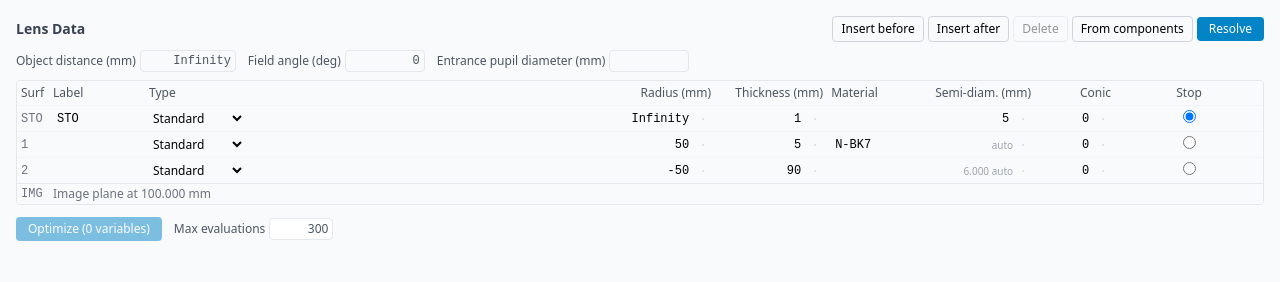
Test: LensDataEditor › resolves through the backend and hands back the system
Click the button "Resolve" at (1230, 29), box [1197,17,1264,41]
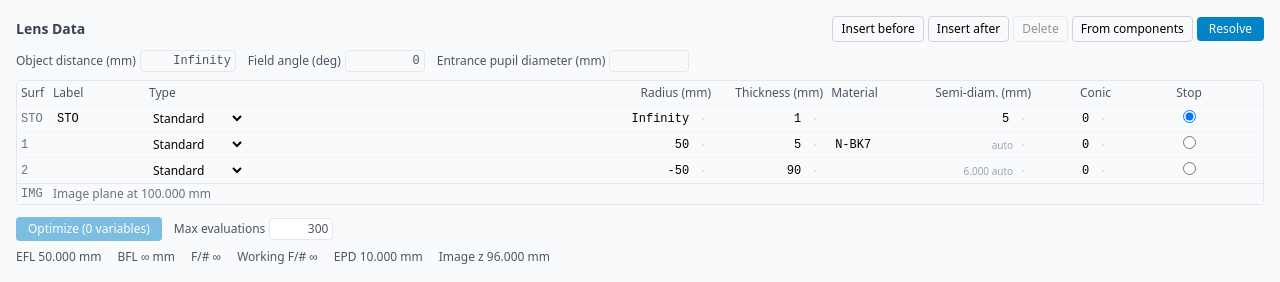
Expected: the text "EFL 50.000 mm" is shown, [16,249,101,265]
